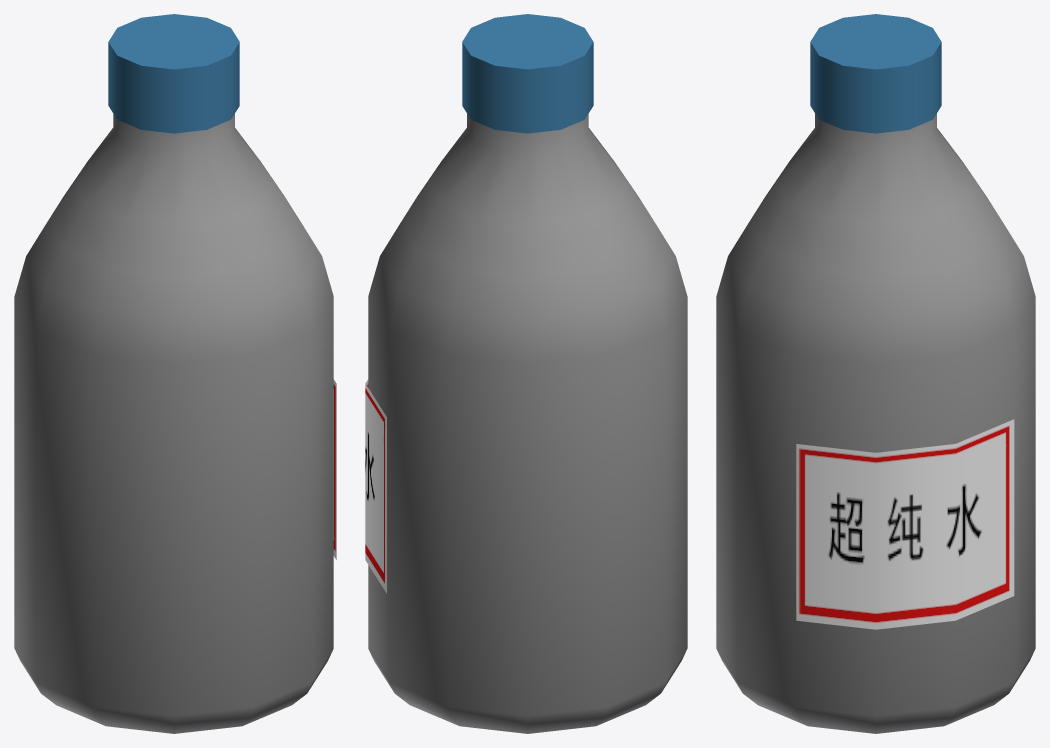
The model's file is SM_超纯水.FBX.
The picture shows the model from 3 angles, left to right: view 1: azimuth 30°, elevation 25°; view 2: azimuth 150°, elevation 25°; view 3: azimuth 270°, elevation 25°; orthographic projection.
Parts seen in each view (by area): view 1: SM_超纯水_瓶体, SM_超纯水_盖子; view 2: SM_超纯水_瓶体, SM_超纯水_盖子; view 3: SM_超纯水_瓶体, SM_超纯水_盖子.
Boxes of the visible parts, bbox=[...] form: SM_超纯水_瓶体: bbox=[14, 114, 336, 733]; SM_超纯水_盖子: bbox=[108, 14, 239, 133]; SM_超纯水_瓶体: bbox=[365, 114, 687, 733]; SM_超纯水_盖子: bbox=[462, 14, 593, 133]; SM_超纯水_瓶体: bbox=[716, 113, 1035, 733]; SM_超纯水_盖子: bbox=[810, 14, 941, 133].
Bounding box in the file's own units: 65.18 × 143 × 64.54.
